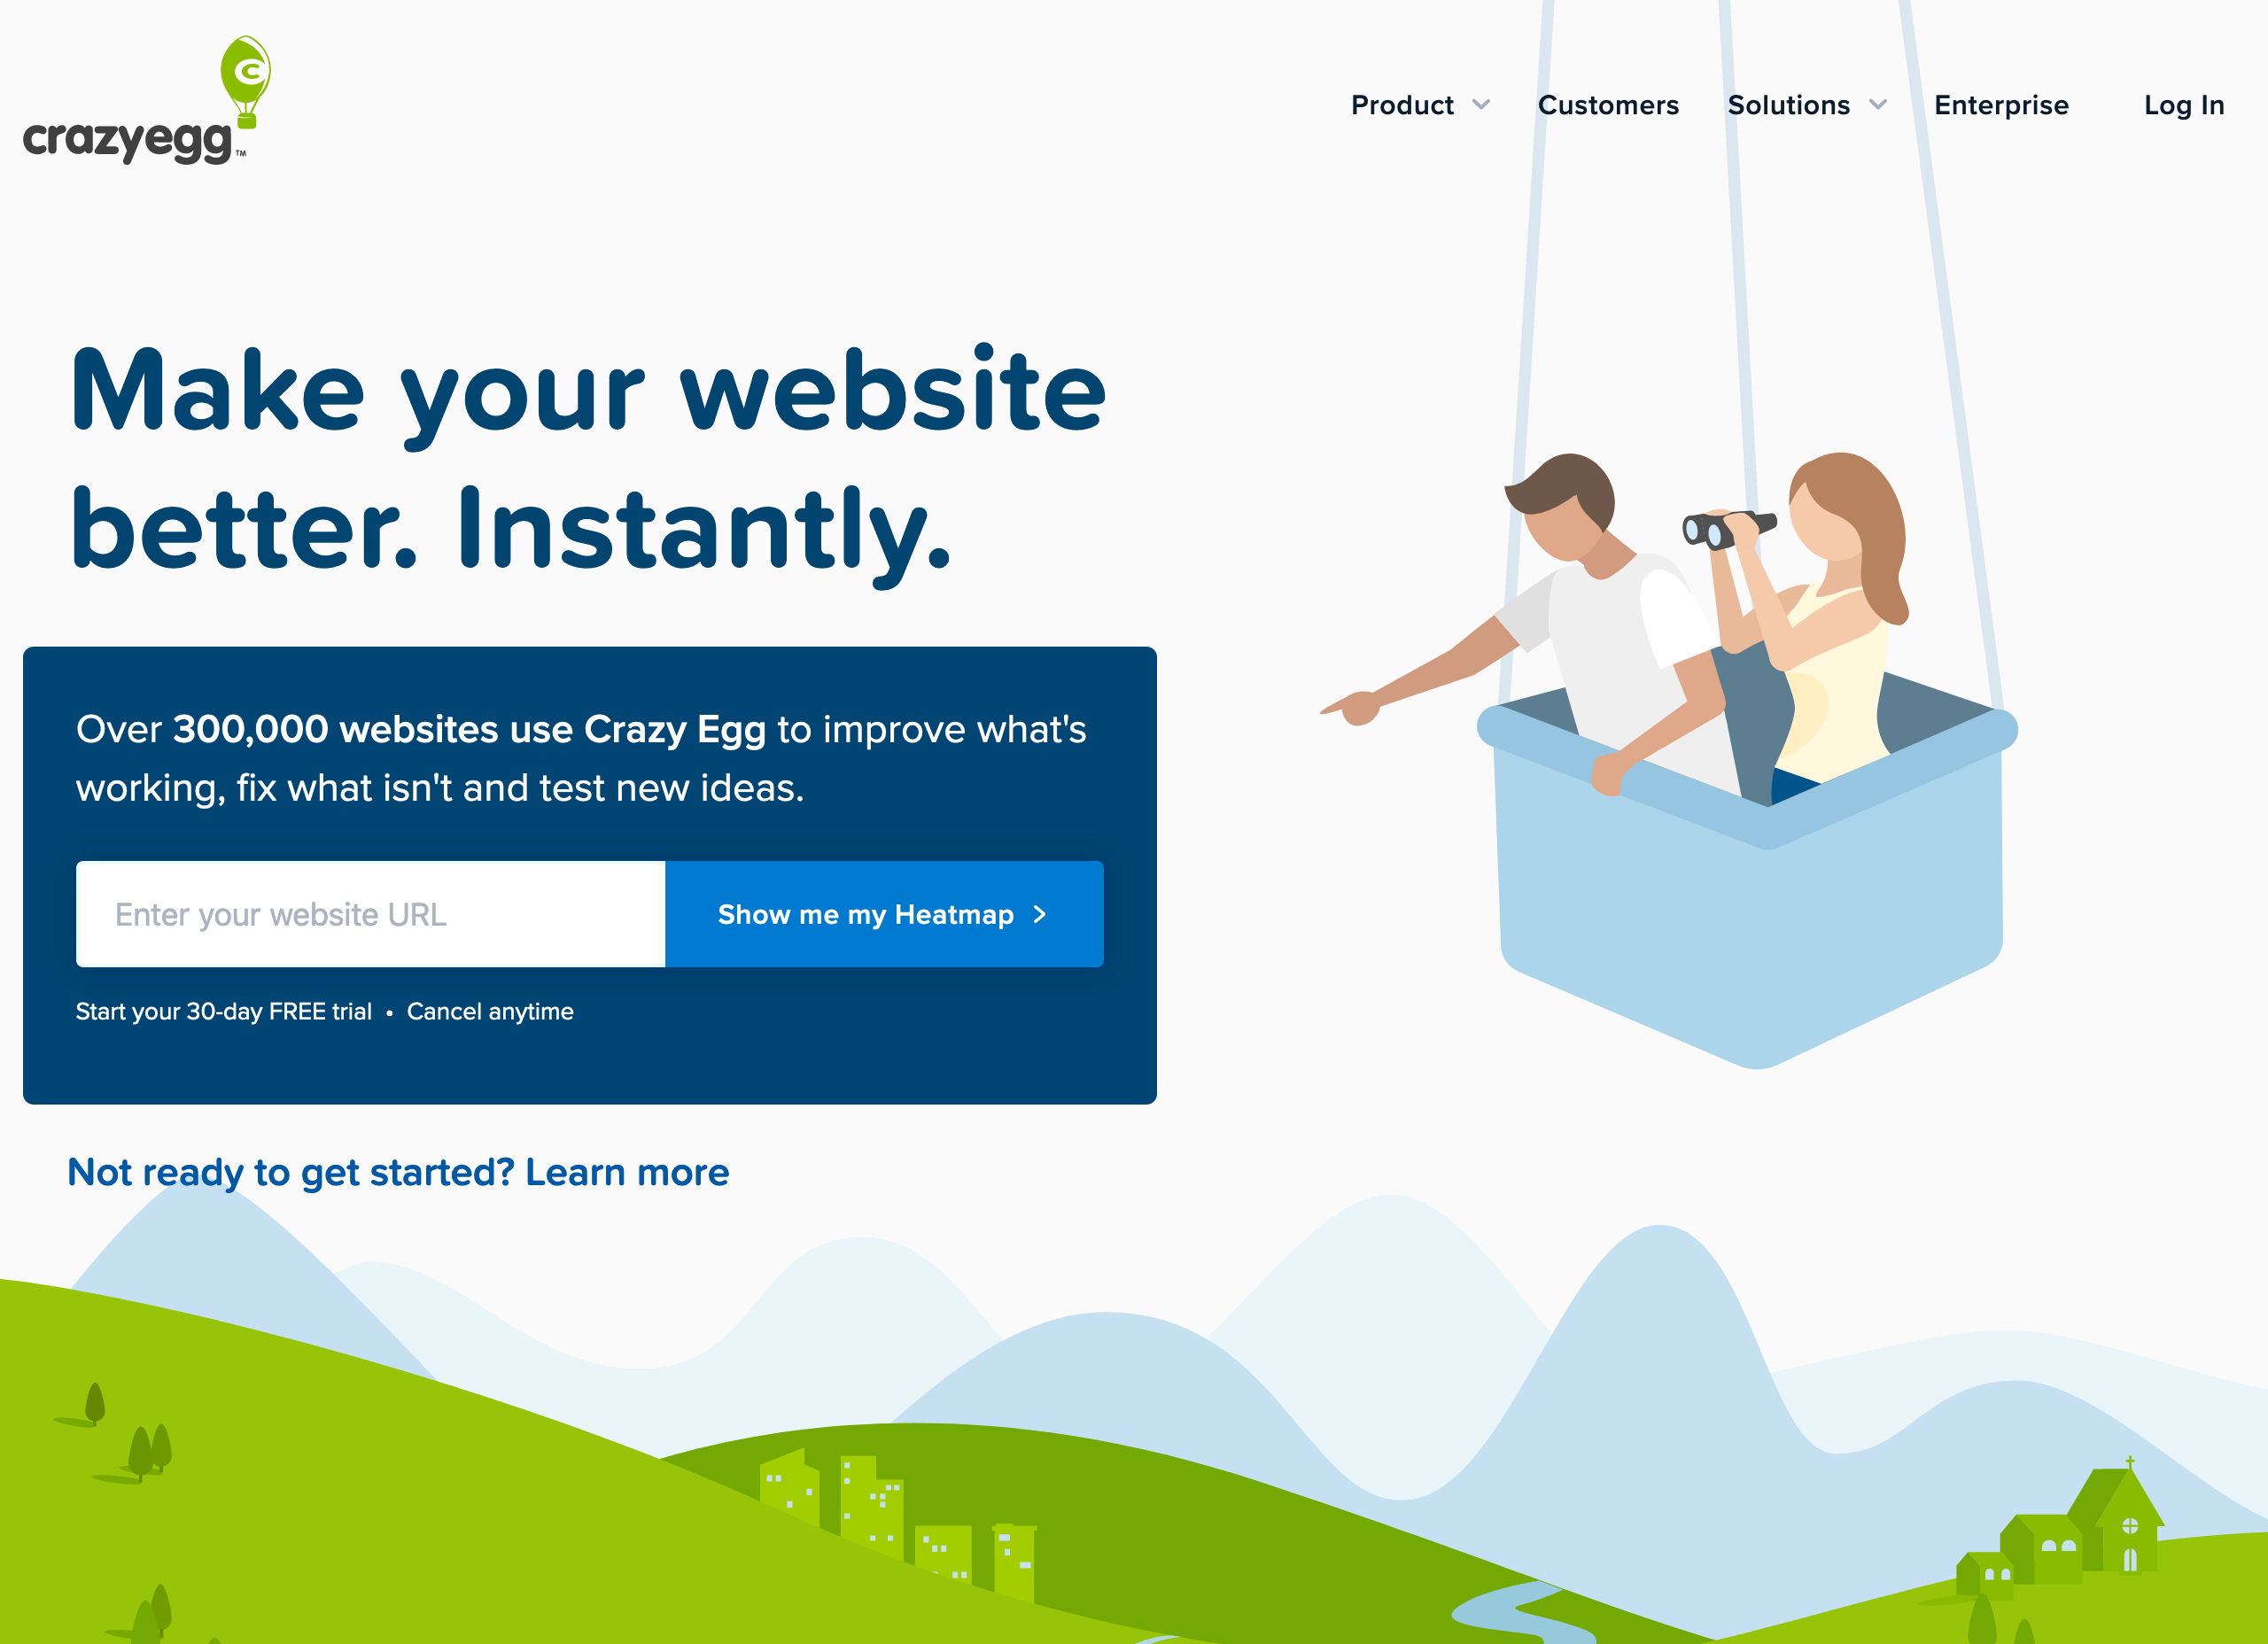Login: (2131, 70, 2236, 136)
